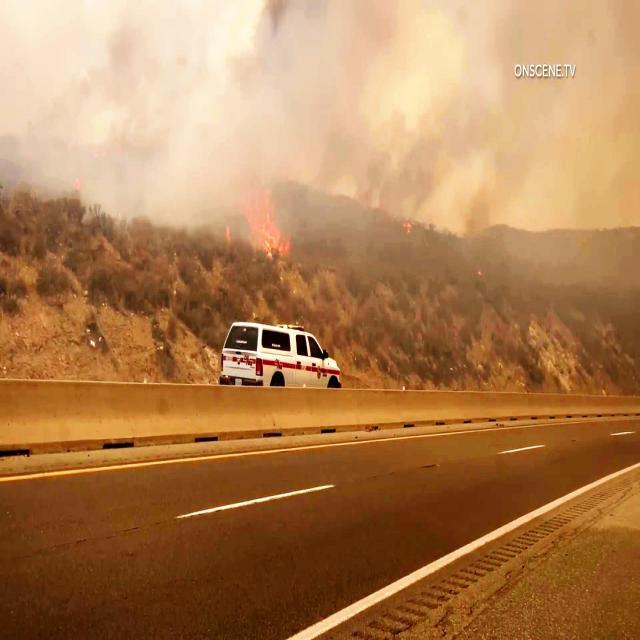Fire: (244, 204, 294, 264)
